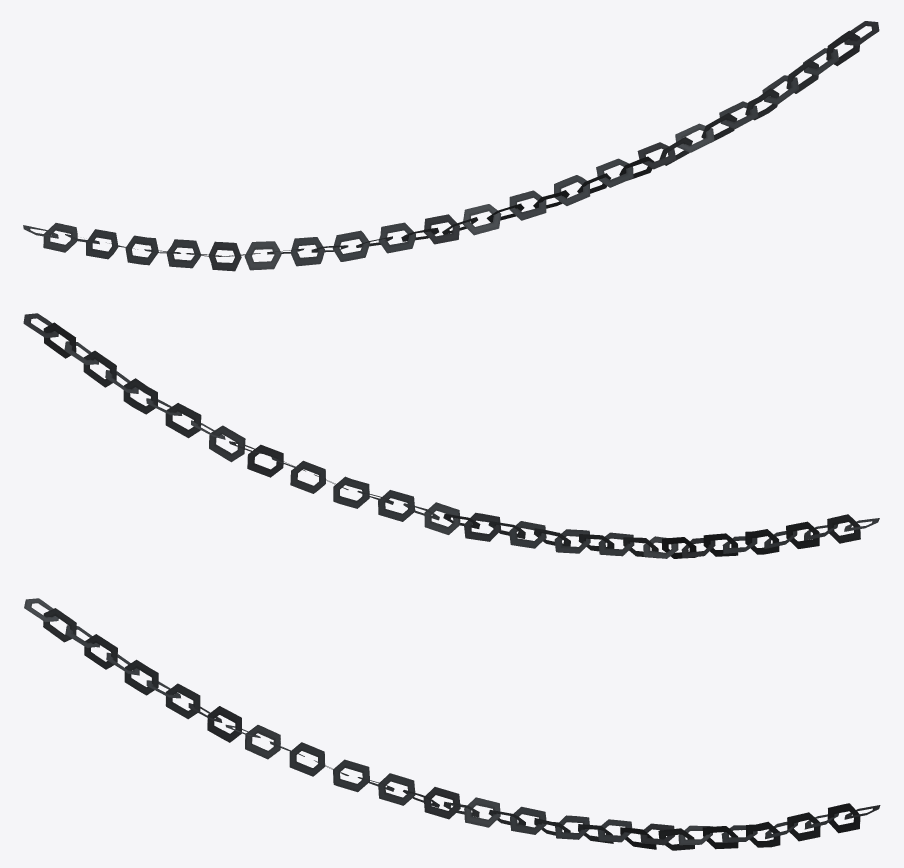
File: SM_Prop_Chain_02a.fbx
3 renders of one model, top to bottom at view 1: azimuth 30°, elevation 25°; view 2: azimuth 150°, elevation 25°; view 3: azimuth 330°, elevation 25°, orthographic.
Parts seen in each view (by area): view 1: SM_Prop_Chain_02a; view 2: SM_Prop_Chain_02a; view 3: SM_Prop_Chain_02a.
Part boxes in pixels (x1,y1,x2,y2): SM_Prop_Chain_02a: (23,21,879,271); SM_Prop_Chain_02a: (23,313,879,558); SM_Prop_Chain_02a: (24,598,880,850).
Bounding box in the file's own units: 262 × 35.63 × 10.07.
